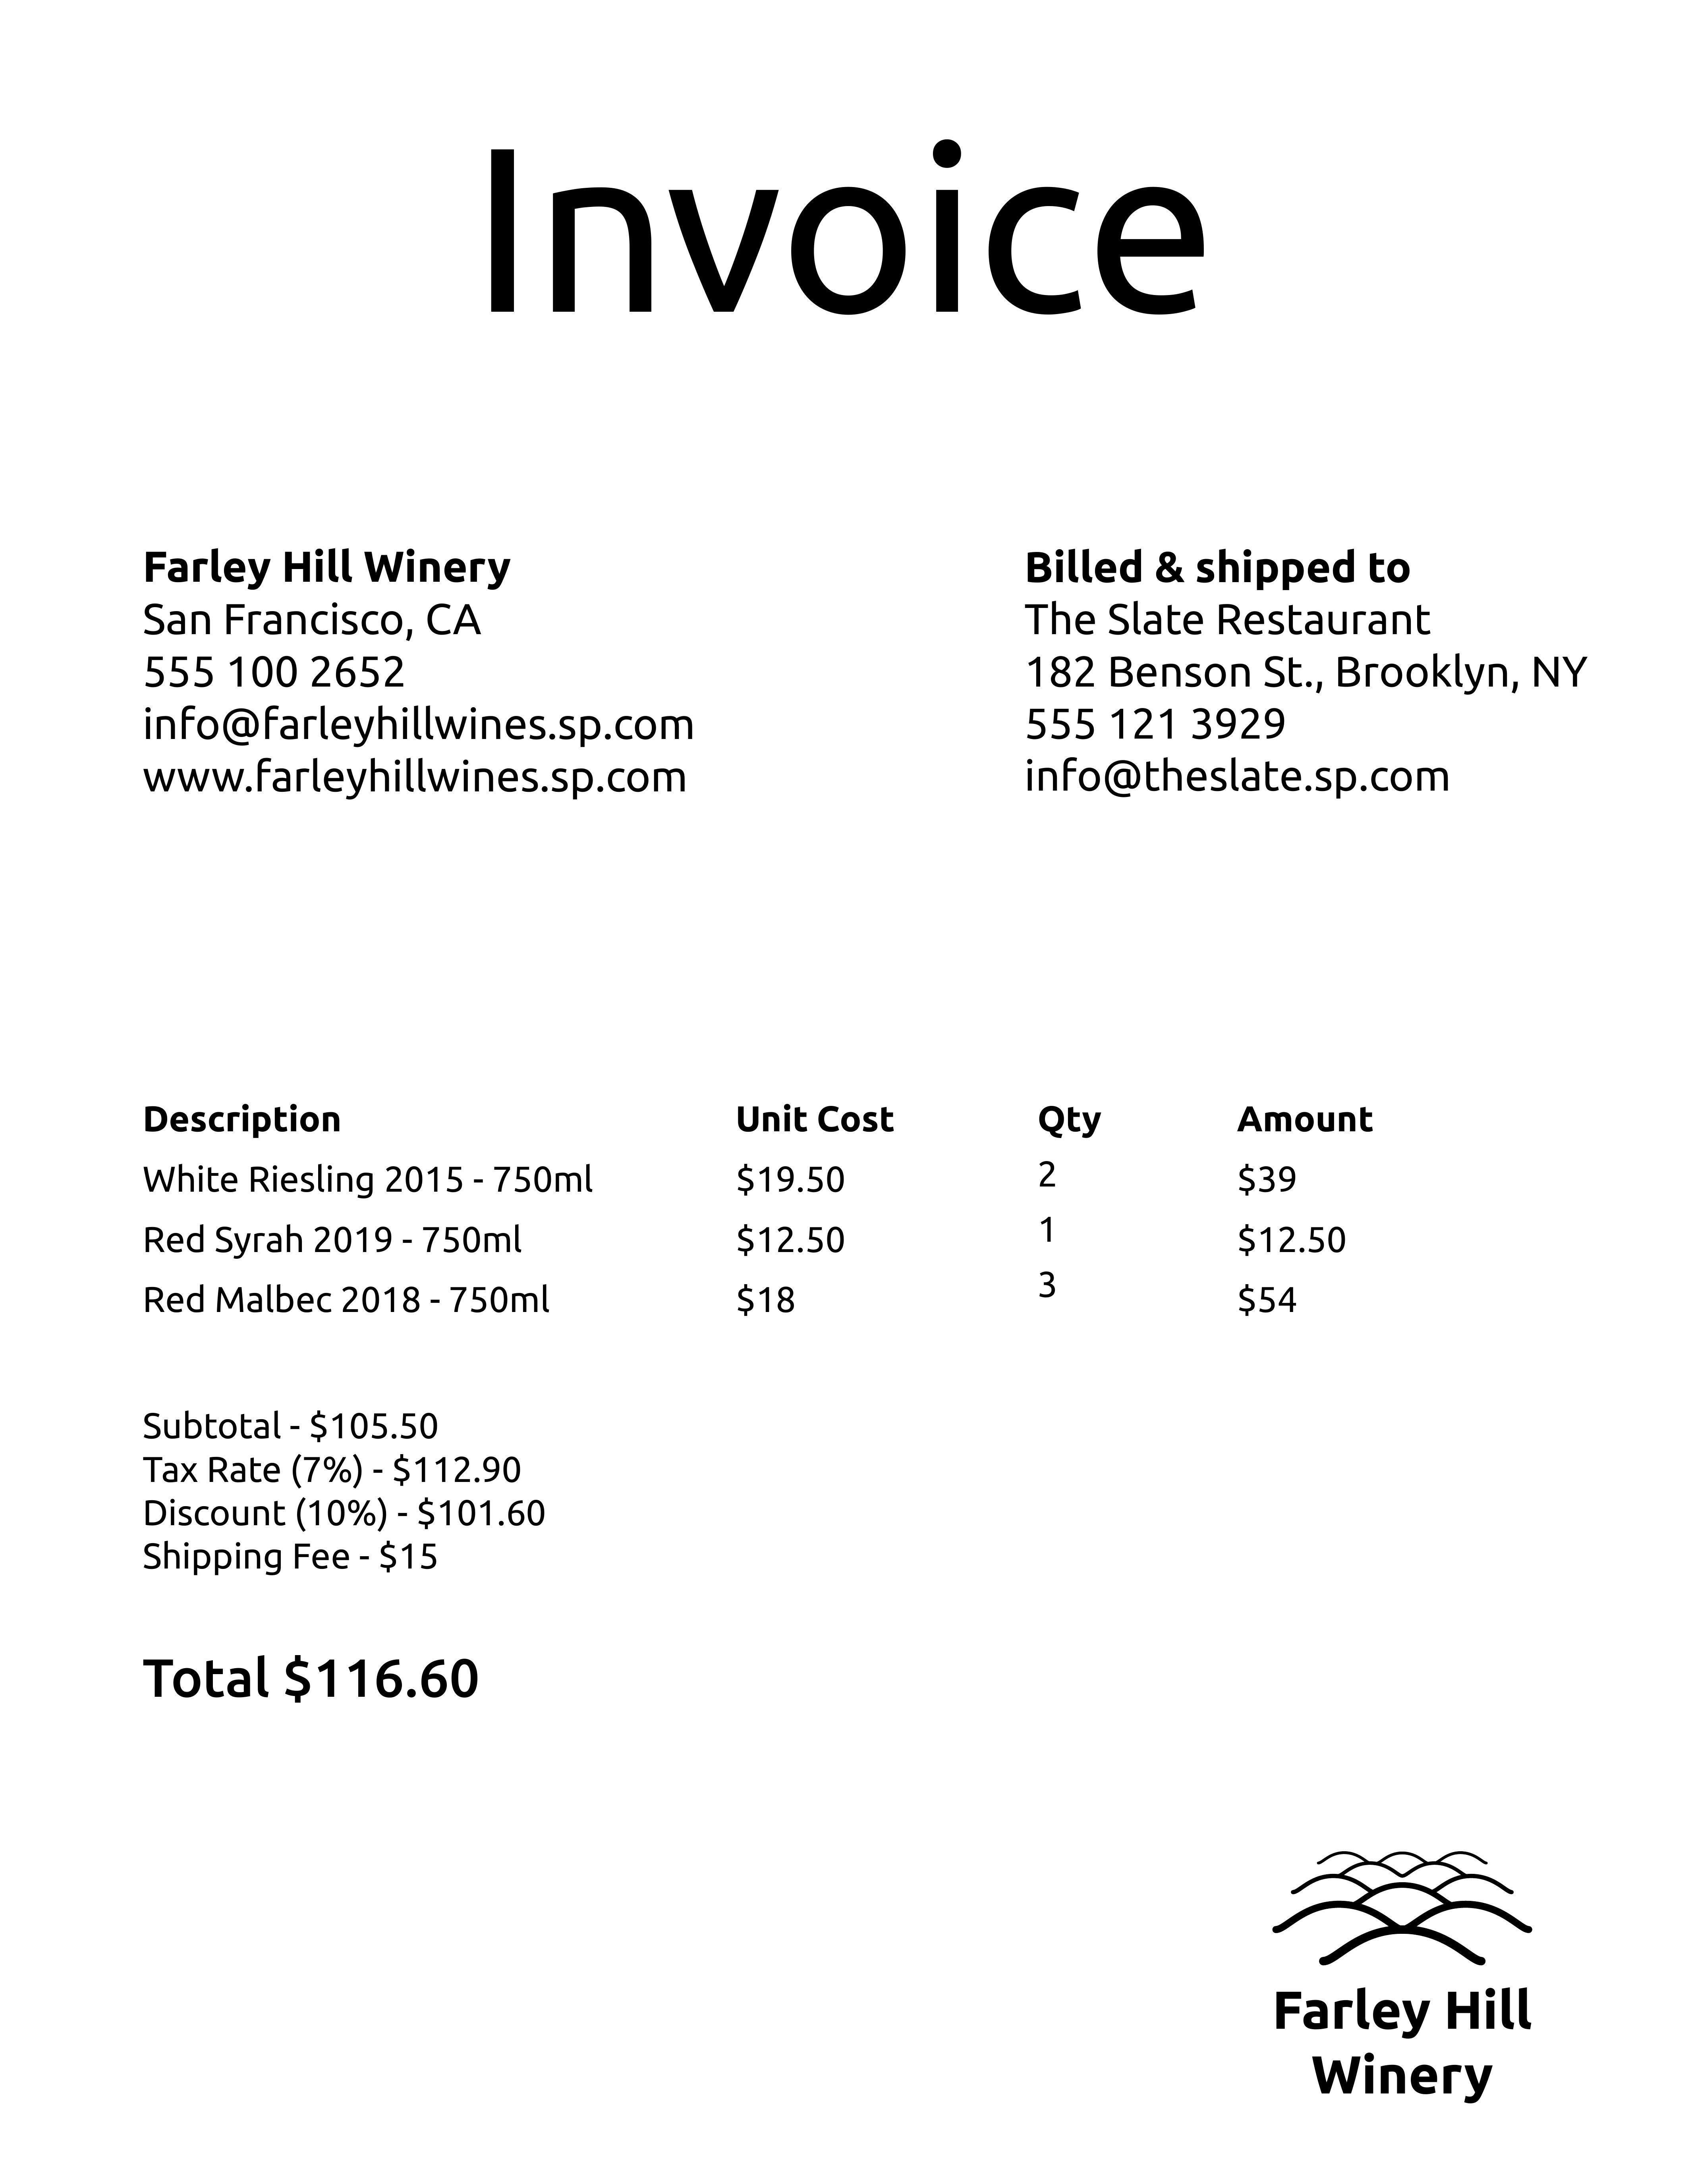ROI: (138, 1097, 1393, 1343), (105, 534, 730, 816), (1016, 541, 1596, 825), (133, 1393, 572, 1729), (1262, 1975, 1541, 2118)
